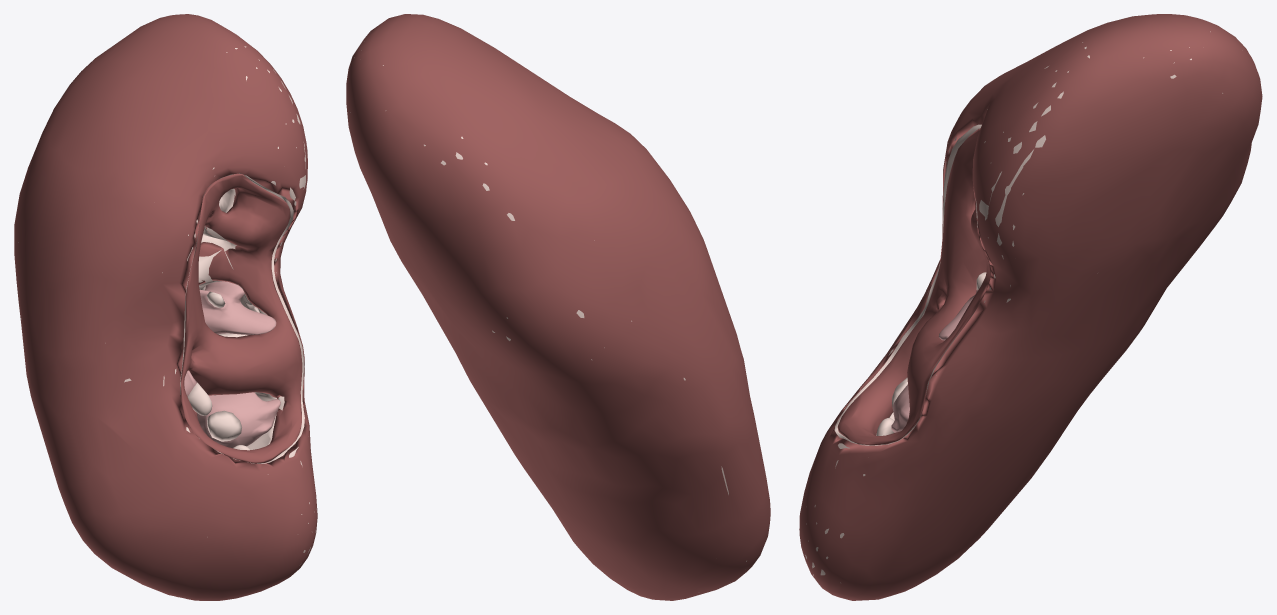
The model's file is vh_m_kidney_r-40.glb.
3 views of the same model, side by side, from view 1: azimuth 30°, elevation 25°; view 2: azimuth 150°, elevation 25°; view 3: azimuth 270°, elevation 25° (orthographic). The views are drawn at different scales.
Visible parts, largest first — view 1: VH_M_kidney_capsule_R, VH_M_hilum_of_kidney_R, VH_M_renal_pyramid_f, VH_M_renal_pyramid_h, VH_M_outer_cortex_of_kidney_R, VH_M_renal_column_R, VH_M_renal_papilla_R_h, VH_M_renal_papilla_R_g; view 2: VH_M_kidney_capsule_R; view 3: VH_M_kidney_capsule_R, VH_M_hilum_of_kidney_R, VH_M_outer_cortex_of_kidney_R, VH_M_renal_pyramid_h.
Boxes of the visible parts, <box> form: VH_M_kidney_capsule_R: <box>14,14,317,600</box>; VH_M_hilum_of_kidney_R: <box>180,173,302,463</box>; VH_M_renal_pyramid_f: <box>199,281,276,334</box>; VH_M_renal_pyramid_h: <box>197,392,280,448</box>; VH_M_outer_cortex_of_kidney_R: <box>18,46,317,565</box>; VH_M_renal_column_R: <box>198,188,276,449</box>; VH_M_renal_papilla_R_h: <box>207,410,241,441</box>; VH_M_renal_papilla_R_g: <box>187,382,212,415</box>; VH_M_kidney_capsule_R: <box>346,14,770,600</box>; VH_M_kidney_capsule_R: <box>799,14,1262,600</box>; VH_M_hilum_of_kidney_R: <box>837,128,990,445</box>; VH_M_outer_cortex_of_kidney_R: <box>805,31,1222,582</box>; VH_M_renal_pyramid_h: <box>891,384,909,432</box>.
Bounding box in the file's own units: 0.0655 × 0.1125 × 0.0764.
